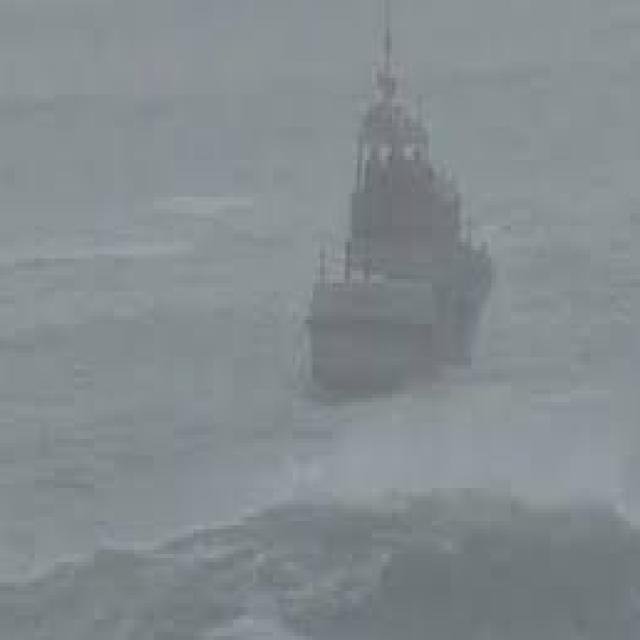fishing boat: (293, 22, 497, 385)
